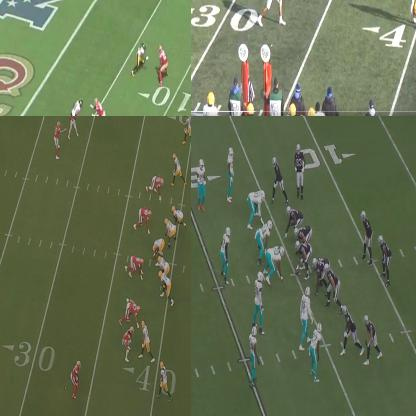CENTER: (296, 240, 312, 274), (152, 238, 165, 255)
DB: (310, 323, 321, 384), (226, 148, 236, 202), (249, 325, 258, 380), (198, 157, 206, 212), (158, 44, 168, 84), (73, 361, 81, 399), (69, 116, 81, 138), (406, 0, 415, 27), (56, 122, 62, 157)
LB: (255, 270, 264, 331), (222, 226, 230, 282), (124, 328, 132, 362), (367, 98, 381, 115)
QB: (361, 211, 373, 260)
SKILL: (340, 302, 359, 356), (362, 313, 381, 364), (132, 39, 147, 77), (273, 155, 285, 201), (379, 232, 390, 282), (296, 145, 306, 196), (266, 0, 290, 21), (158, 362, 169, 397), (172, 152, 183, 184), (142, 322, 152, 356), (165, 276, 173, 304), (184, 116, 190, 145)
